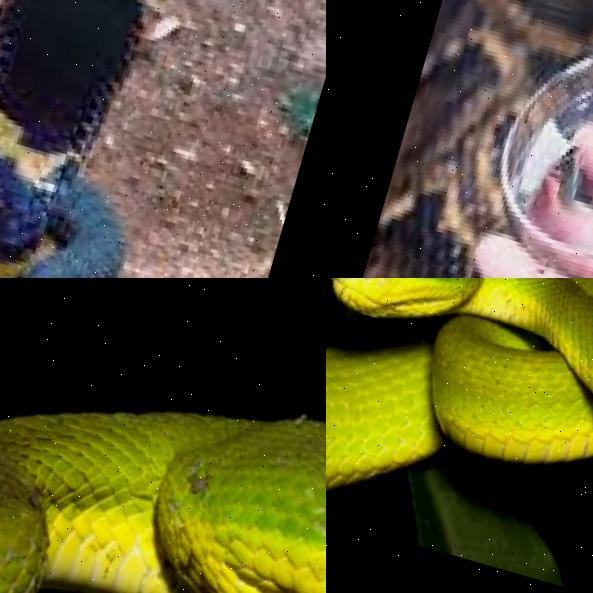1: (0, 0, 326, 278)
4: (0, 317, 326, 593), (326, 278, 593, 593)
snake: (326, 0, 593, 278)
